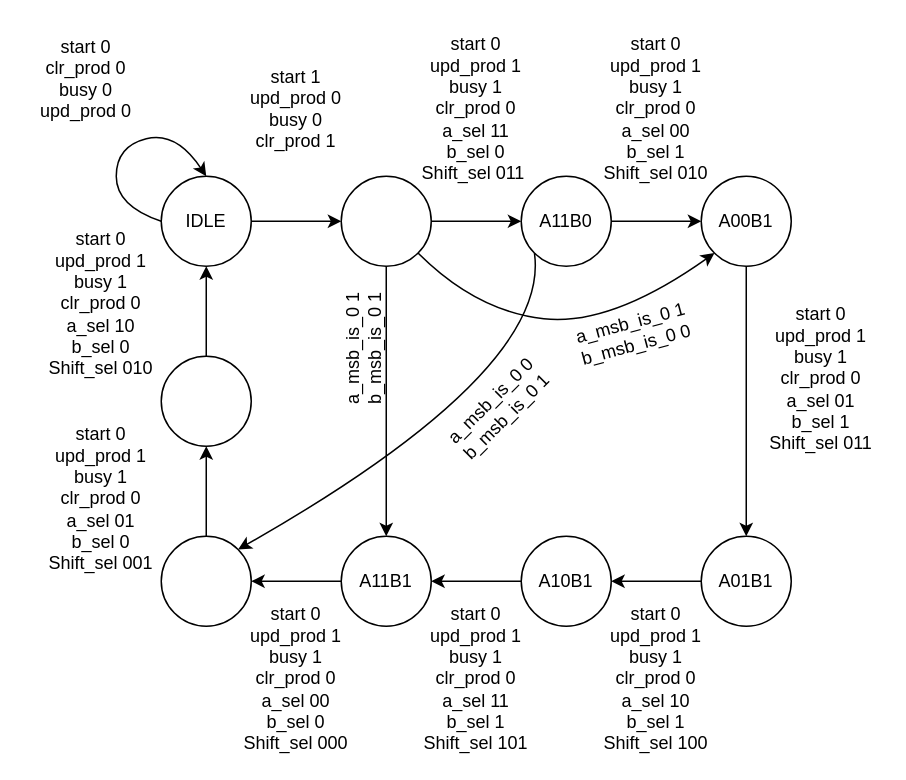
Some shapes in this 906 by 780 pixel diagram are drawn without their labels. Each missing label, with the centre of its shape:
"A00B0" belongs at point (205, 580).
"A01B0" belongs at point (205, 400).
"Start" belongs at point (385, 220).
